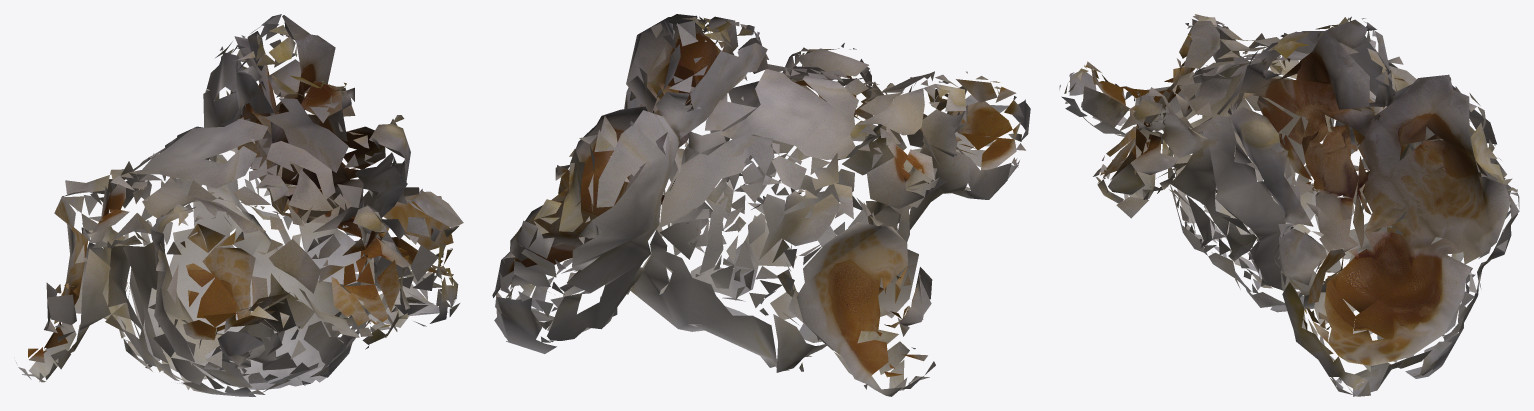
Rendered from popcorn_flake.glb.
The picture shows the model from 3 angles, left to right: view 1: azimuth 30°, elevation 25°; view 2: azimuth 150°, elevation 25°; view 3: azimuth 270°, elevation 25°; orthographic projection. The views are drawn at different scales.
Visible parts, largest first — view 1: Object_3, Object_2, Object_4; view 2: Object_3, Object_2, Object_4; view 3: Object_2, Object_4, Object_3.
Part boxes in pixels (x1=…): Object_3: x1=28, y1=23, x2=451, y2=396; Object_2: x1=29, y1=14, x2=463, y2=389; Object_4: x1=16, y1=25, x2=459, y2=392; Object_3: x1=494, y1=15, x2=1025, y2=396; Object_2: x1=492, y1=14, x2=1018, y2=374; Object_4: x1=495, y1=17, x2=1030, y2=388; Object_2: x1=1068, y1=19, x2=1517, y2=396; Object_4: x1=1059, y1=16, x2=1516, y2=396; Object_3: x1=1069, y1=14, x2=1519, y2=389.
Size of the model in its own units: 0.0166 by 0.0124 by 0.0169.
3 materials, 3 textured.
